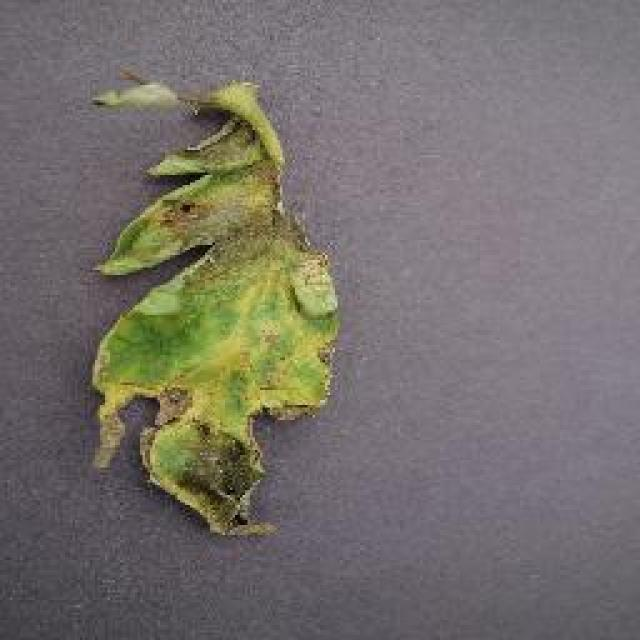Tomato___Late_blight: (90, 82, 342, 538)
